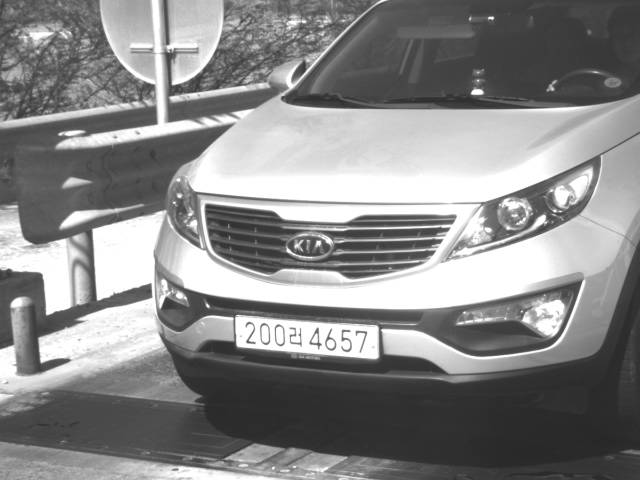car: (151, 1, 640, 423)
plate: (232, 314, 383, 362)
